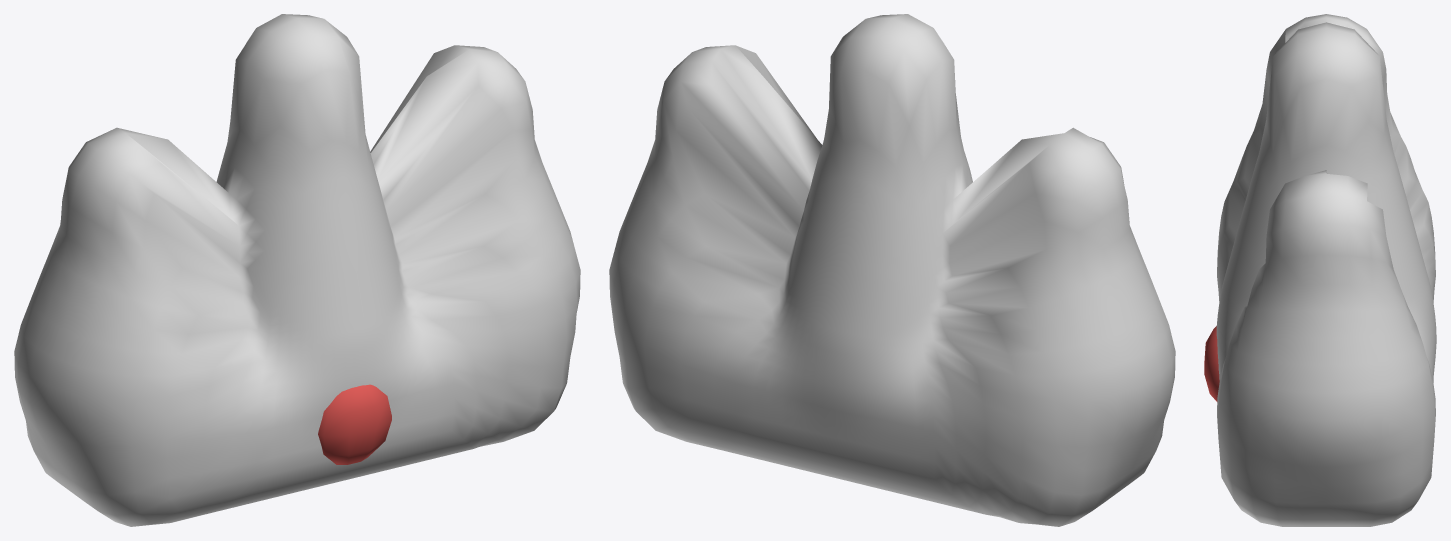
File: shape_crown_blob.glb
The picture shows the model from 3 angles, left to right: view 1: azimuth 30°, elevation 25°; view 2: azimuth 150°, elevation 25°; view 3: azimuth 270°, elevation 25°; orthographic projection. The views are drawn at different scales.
Parts seen in each view (by area): view 1: shape_crown_blob; view 2: shape_crown_blob; view 3: shape_crown_blob.
Part boxes in pixels (<box>): shape_crown_blob: <box>14,14,580,526</box>; shape_crown_blob: <box>609,14,1175,526</box>; shape_crown_blob: <box>1204,14,1436,526</box>.
Size of the model in its own units: 1 by 0.7904 by 0.4039.
